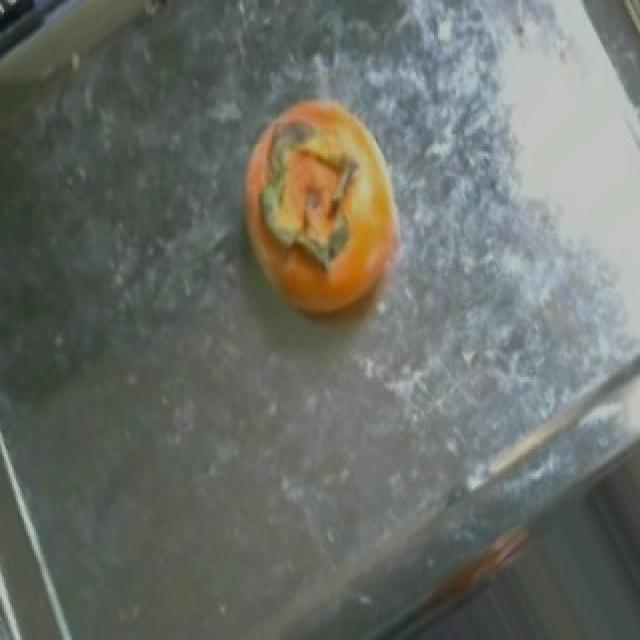Fruit: (214, 85, 428, 342), (0, 0, 214, 64), (590, 416, 640, 640)
